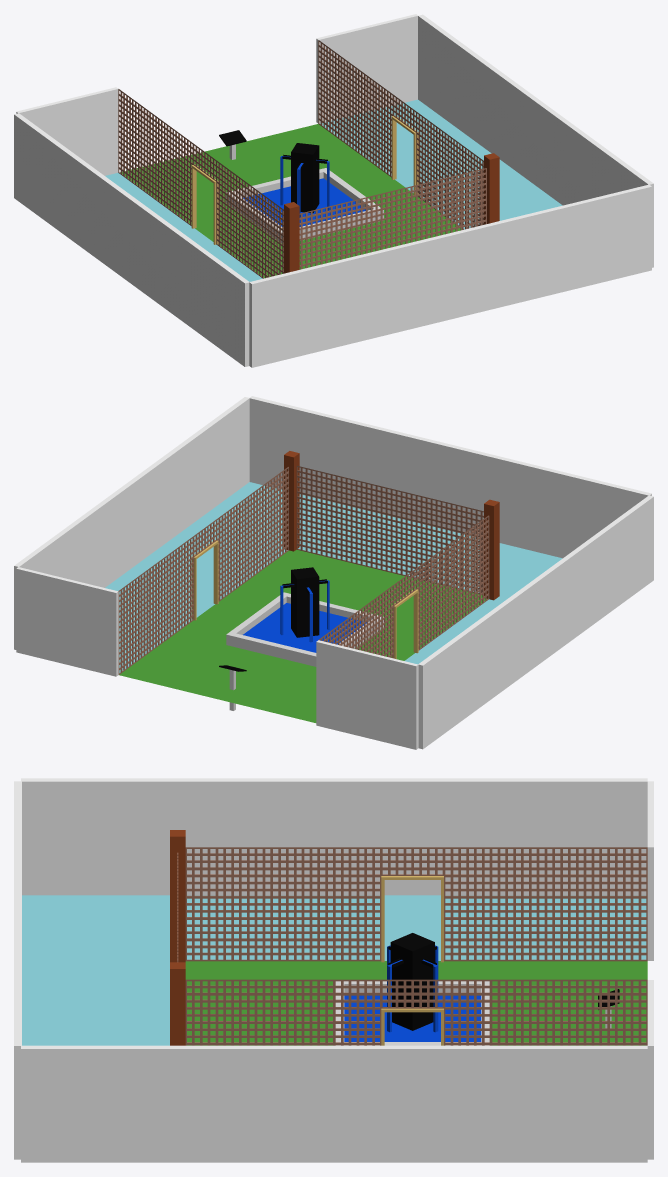
The model's file is courtyard.glb.
The picture shows the model from 3 angles, top to bottom: view 1: azimuth 30°, elevation 25°; view 2: azimuth 150°, elevation 25°; view 3: azimuth 270°, elevation 25°; orthographic projection. The views are drawn at different scales.
Parts seen in each view (by area): view 1: South wall, Ground, West wall, East wall, West divider, East divider, South divider, North-east wall, North-west wall, Fountain base, Foutain outside, Water pool (+5 smaller); view 2: Ground, South wall, West wall, East wall, East divider, South divider, North-east wall, North-west wall, West divider, Fountain base, Water pool, Foutain outside (+5 smaller); view 3: East wall, West wall, Ground, West divider, East divider, Foutain outside, Water pool, South wall, Southwest pillar, Fountain base, Southeast pillar, North-east wall (+3 smaller).
Boxes of the visible parts, left/top/right/bottom form: South wall: left=249, top=184, right=651, bottom=367; Ground: left=105, top=99, right=562, bottom=281; West wall: left=14, top=113, right=249, bottom=366; East wall: left=418, top=14, right=653, bottom=267; West divider: left=118, top=89, right=283, bottom=278; East divider: left=318, top=40, right=483, bottom=229; South divider: left=299, top=168, right=486, bottom=269; North-east wall: left=316, top=14, right=417, bottom=123; North-west wall: left=16, top=87, right=118, bottom=175; Fountain base: left=226, top=168, right=383, bottom=243; Foutain outside: left=282, top=143, right=327, bottom=212; Water pool: left=243, top=178, right=365, bottom=226; Ground: left=105, top=482, right=562, bottom=722; South wall: left=249, top=396, right=651, bottom=558; West wall: left=418, top=495, right=653, bottom=749; East wall: left=14, top=397, right=249, bottom=649; East divider: left=118, top=467, right=288, bottom=674; South divider: left=296, top=465, right=483, bottom=593; North-east wall: left=16, top=567, right=118, bottom=676; North-west wall: left=316, top=640, right=418, bottom=749; West divider: left=318, top=515, right=489, bottom=658; Fountain base: left=226, top=592, right=383, bottom=666; Water pool: left=243, top=603, right=366, bottom=652; Foutain outside: left=282, top=567, right=327, bottom=637; East wall: left=21, top=1045, right=647, bottom=1162; West wall: left=21, top=778, right=647, bottom=895; Ground: left=22, top=895, right=647, bottom=1045; West divider: left=185, top=847, right=647, bottom=961; East divider: left=185, top=979, right=647, bottom=1045; Foutain outside: left=388, top=933, right=436, bottom=1030; Water pool: left=344, top=995, right=481, bottom=1041; South wall: left=14, top=781, right=21, bottom=1159; Southwest pillar: left=170, top=830, right=185, bottom=962; Fountain base: left=335, top=981, right=489, bottom=1045; Southeast pillar: left=170, top=962, right=185, bottom=1045; North-east wall: left=647, top=980, right=653, bottom=1159.
Bounding box in the file's own units: 20.45 × 5.5 × 20.43.
